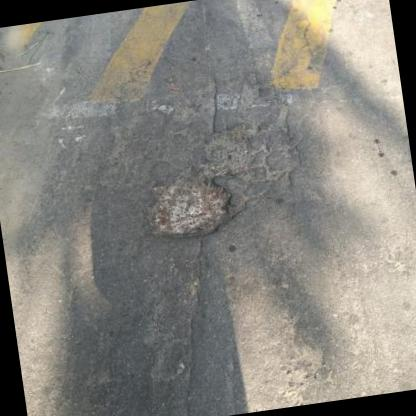pothole: (138, 166, 240, 246), (196, 121, 262, 180)
